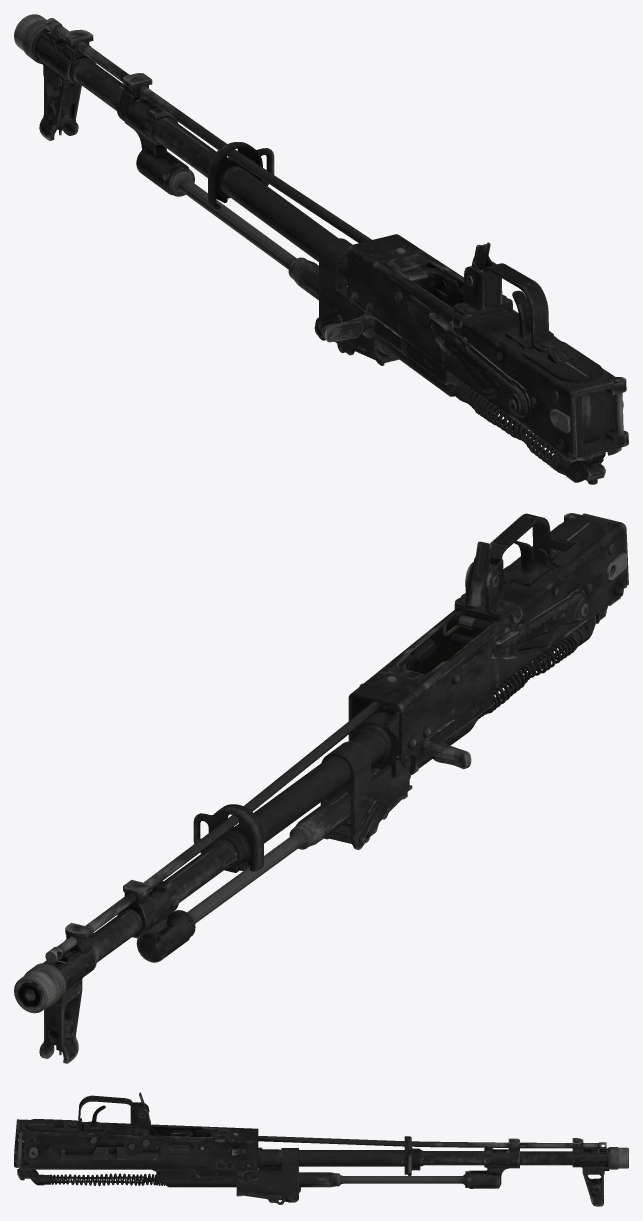
3 renders of one model, top to bottom at view 1: azimuth 30°, elevation 25°; view 2: azimuth 150°, elevation 25°; view 3: azimuth 270°, elevation 25°, orthographic. The views are drawn at different scales.
Parts seen in each view (by area): view 1: TW_5ac66cb05acfc40198510a10_PZ_Import; view 2: TW_5ac66cb05acfc40198510a10_PZ_Import; view 3: TW_5ac66cb05acfc40198510a10_PZ_Import.
Boxes of the visible parts, x1,y1,x2,y2 form: TW_5ac66cb05acfc40198510a10_PZ_Import: (14, 14, 628, 484); TW_5ac66cb05acfc40198510a10_PZ_Import: (14, 513, 628, 1063); TW_5ac66cb05acfc40198510a10_PZ_Import: (14, 1092, 628, 1206).
Bounding box in the file's own units: 0.0424 × 0.373 × 0.0735.
1 material, 1 textured.
